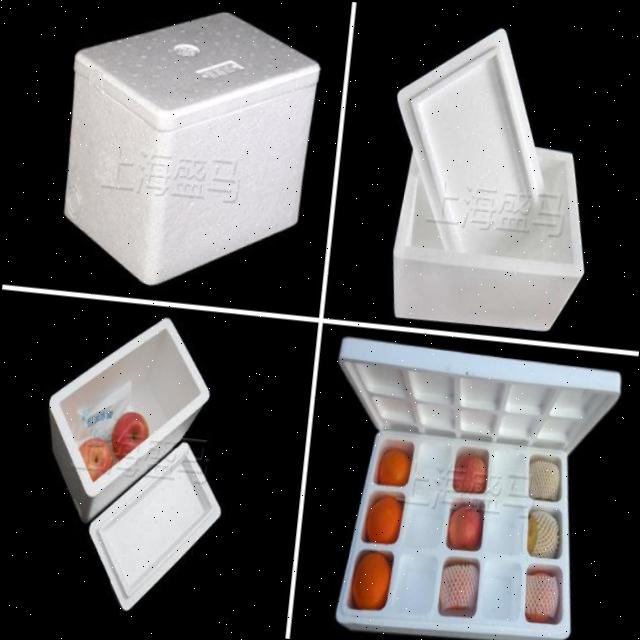styrofoam: (308, 334, 623, 640), (50, 0, 325, 300), (372, 16, 609, 337), (35, 304, 217, 534), (79, 430, 228, 620)
